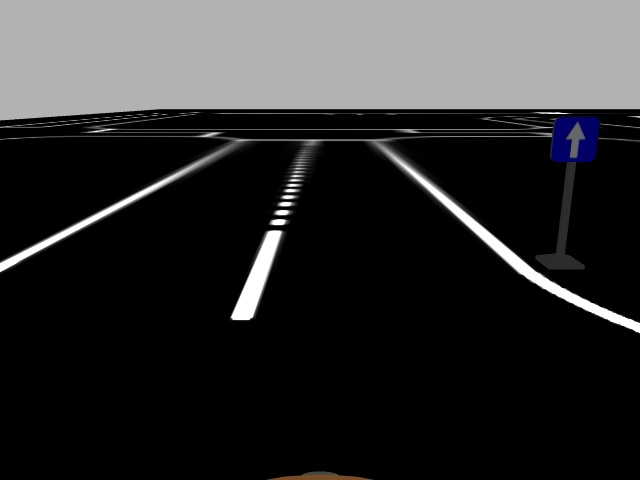oneway: (551, 115, 601, 165)
